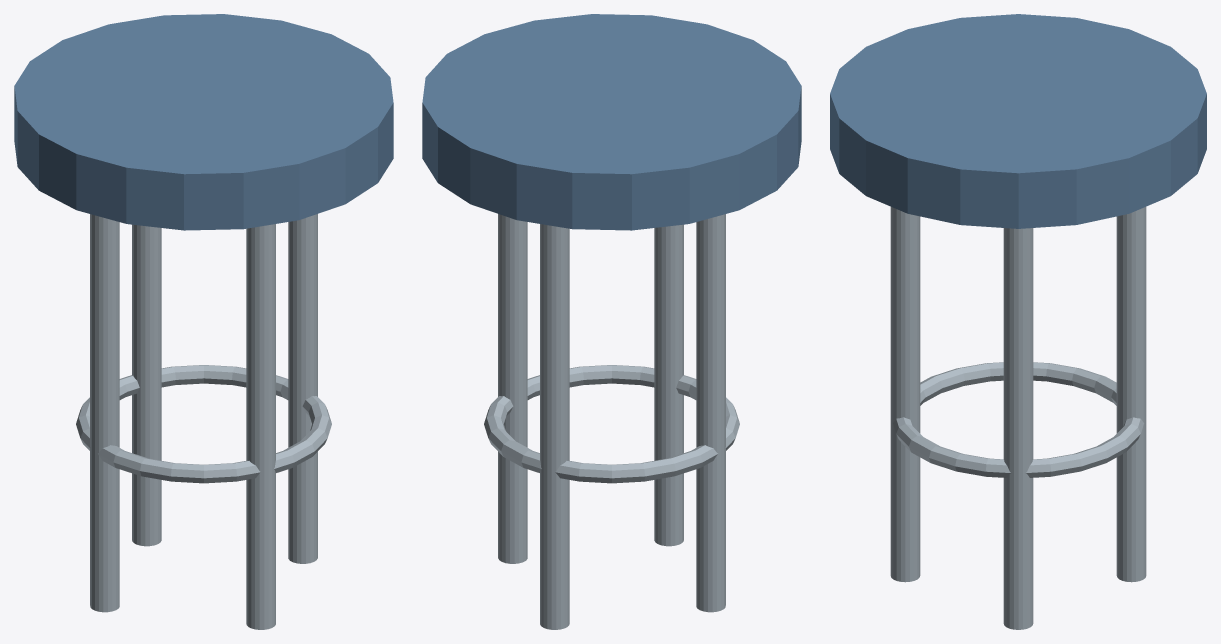
Rendered from school_10.glb.
3 renders of one model, left to right at view 1: azimuth 30°, elevation 25°; view 2: azimuth 150°, elevation 25°; view 3: azimuth 270°, elevation 25°, orthographic.
Parts seen in each view (by area): view 1: StoolSeat, StoolLeg (×4), FootRing; view 2: StoolSeat, StoolLeg (×4), FootRing; view 3: StoolSeat, StoolLeg (×3), FootRing.
Boxes of the visible parts, x1,y1,x2,y2 form: StoolSeat: (14, 14, 393, 230); StoolLeg (×4): (90, 214, 317, 629); FootRing: (76, 365, 331, 483); StoolSeat: (422, 14, 801, 230); StoolLeg (×4): (498, 214, 725, 629); FootRing: (484, 365, 739, 483); StoolSeat: (830, 14, 1206, 228); StoolLeg (×3): (890, 207, 1146, 629); FootRing: (893, 362, 1143, 477).
Bounding box in the file's own units: 0.46 × 0.6495 × 0.46.
